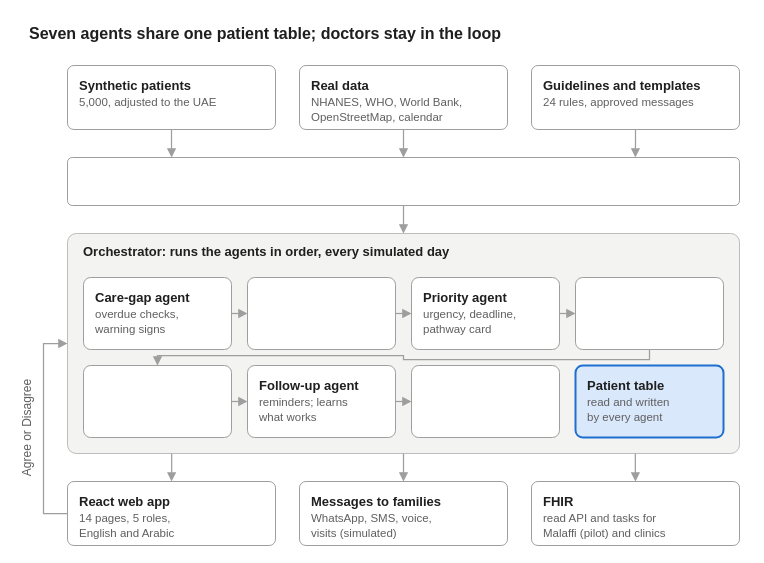
This 764x563 diagram has some shape labels left out. Each missing label, with the box of its shape:
Chat assistant replies, booking, consent, emergency: (82, 364, 232, 438)
Data preparation: one row per patient, consent applied before any use: (66, 156, 740, 206)
Evaluation agent results, fairness, daily report: (410, 364, 560, 438)
Outreach agent channel, template, contact time: (574, 276, 724, 350)
Risk agent score with range, top 3 reasons: (246, 276, 396, 350)
